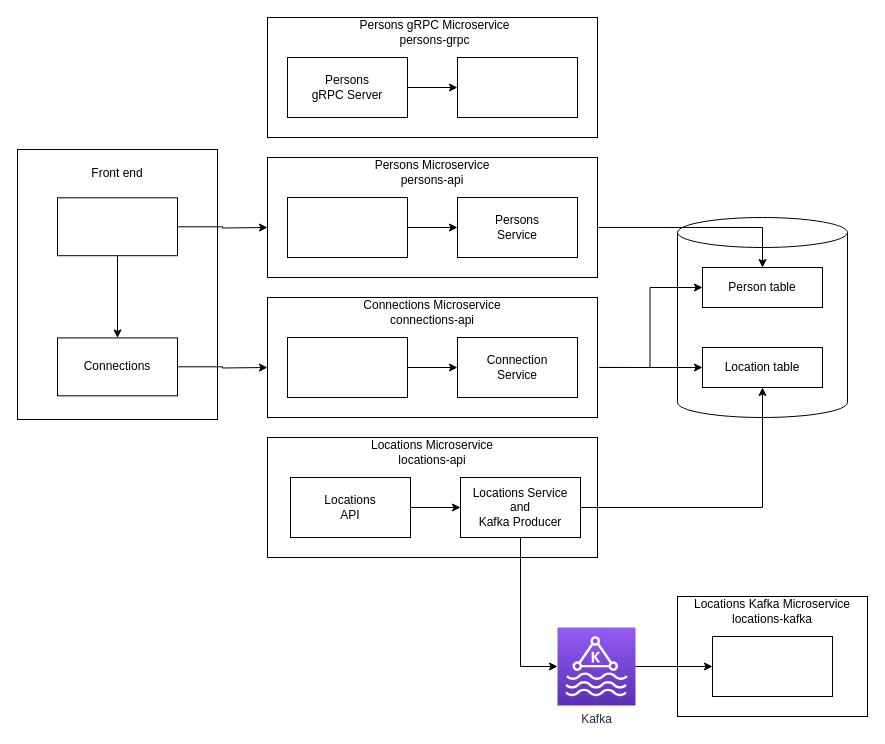
Some shapes in this 885 by 744 pixel diagram are drawn without their labels. The shapes that lost their labels are listed below. From the top down, each one's centre as x and y in pixels, then its label:
At point 517,87: "Persons Mock Service".
At point 117,226: "Persons".
At point 347,227: "Persons API".
At point 347,367: "Connections API".
At point 772,666: "Locations Kafka Consumer".
